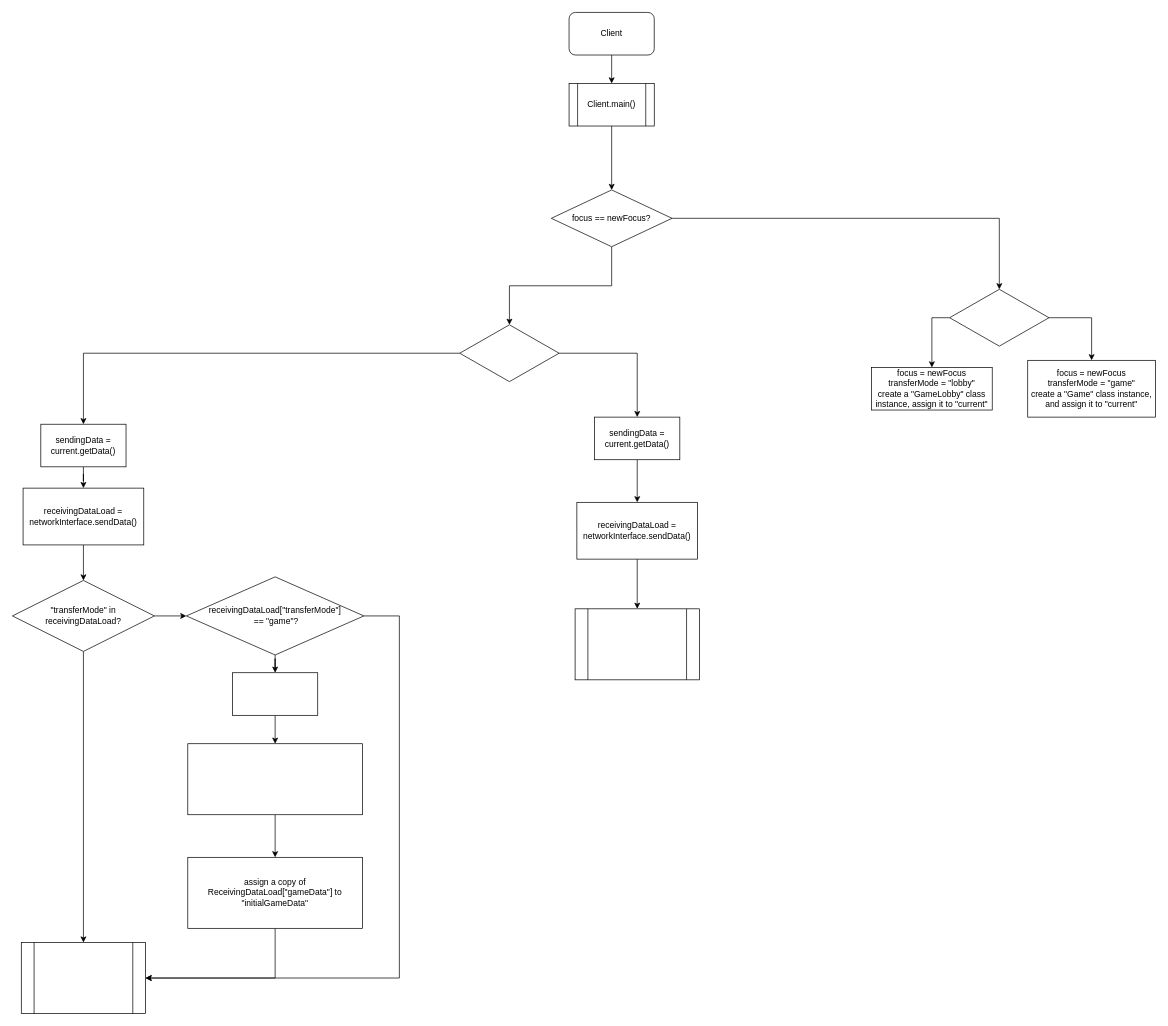
Image size: 1168x1026. Some labels were removed from this diagram. The shapes that lost their labels are listed below. From the top down, each one's centre as x and y in pixels, then its label:
(x=999, y=317): match newFocus
(x=509, y=353): match transferMode
(x=636, y=644): Current.main() (which should be the Game main function)
(x=275, y=693): newFocus = "game"
(x=274, y=779): assign a copy of ReceivingDataLoad["gameSettings"] to "initialGameSettings"
(x=83, y=978): Current.main() (which should be the GameLobby main function)
